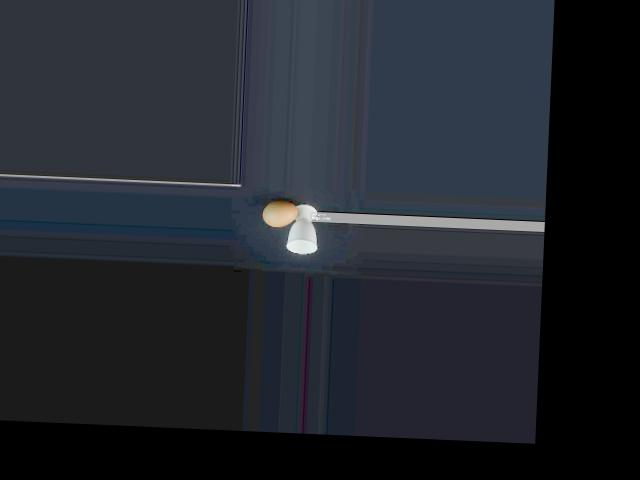egg: (263, 201, 298, 228)
